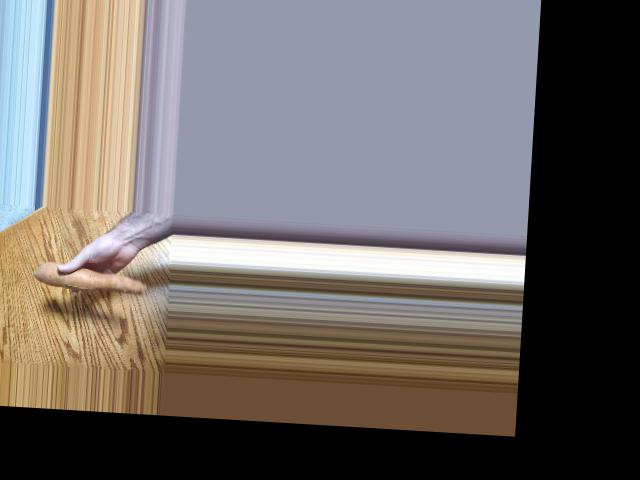sweet_potato: (35, 265, 152, 297)
